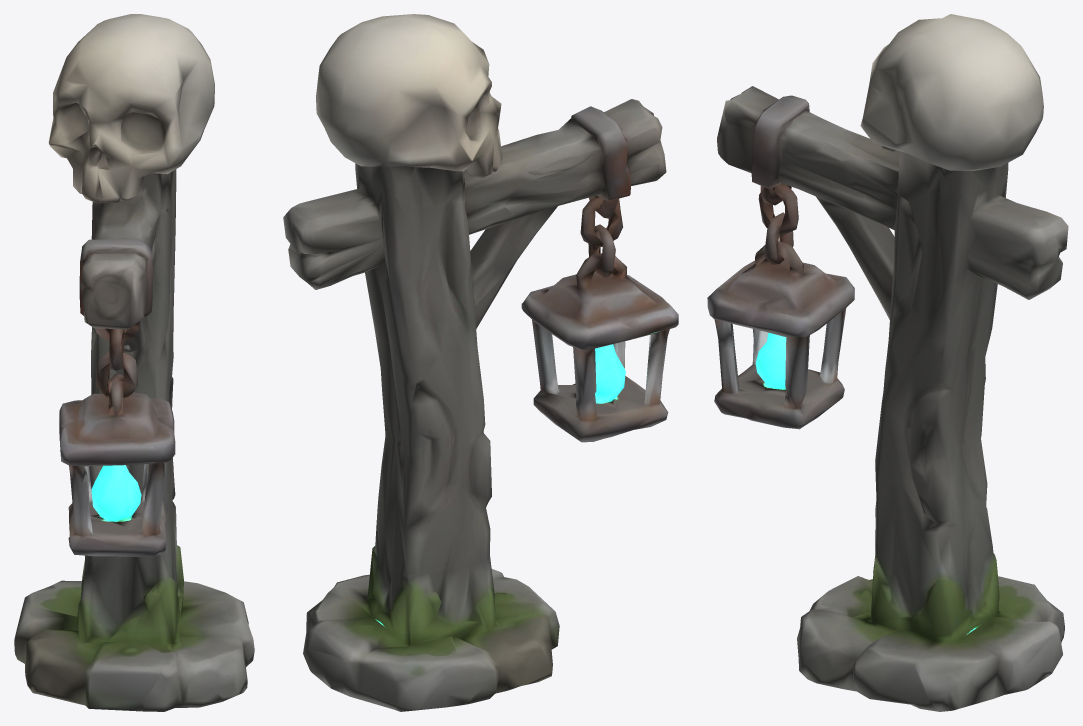
Rendered from gy_skullpost-C20fjtyy.glb.
3 renders of one model, left to right at view 1: azimuth 30°, elevation 25°; view 2: azimuth 150°, elevation 25°; view 3: azimuth 270°, elevation 25°, orthographic. The views are drawn at different scales.
Visible parts, largest first — view 1: tripo_node_9531e800-8392-496d-96dd-df586c2b8dec; view 2: tripo_node_9531e800-8392-496d-96dd-df586c2b8dec; view 3: tripo_node_9531e800-8392-496d-96dd-df586c2b8dec.
Part boxes in pixels (box(x1,y1,x2,y2)): tripo_node_9531e800-8392-496d-96dd-df586c2b8dec: box(14, 14, 254, 711); tripo_node_9531e800-8392-496d-96dd-df586c2b8dec: box(283, 14, 678, 711); tripo_node_9531e800-8392-496d-96dd-df586c2b8dec: box(707, 14, 1068, 711).
Size of the model in its own units: 0.4569 by 1 by 0.5147.
1 material, 1 textured.
